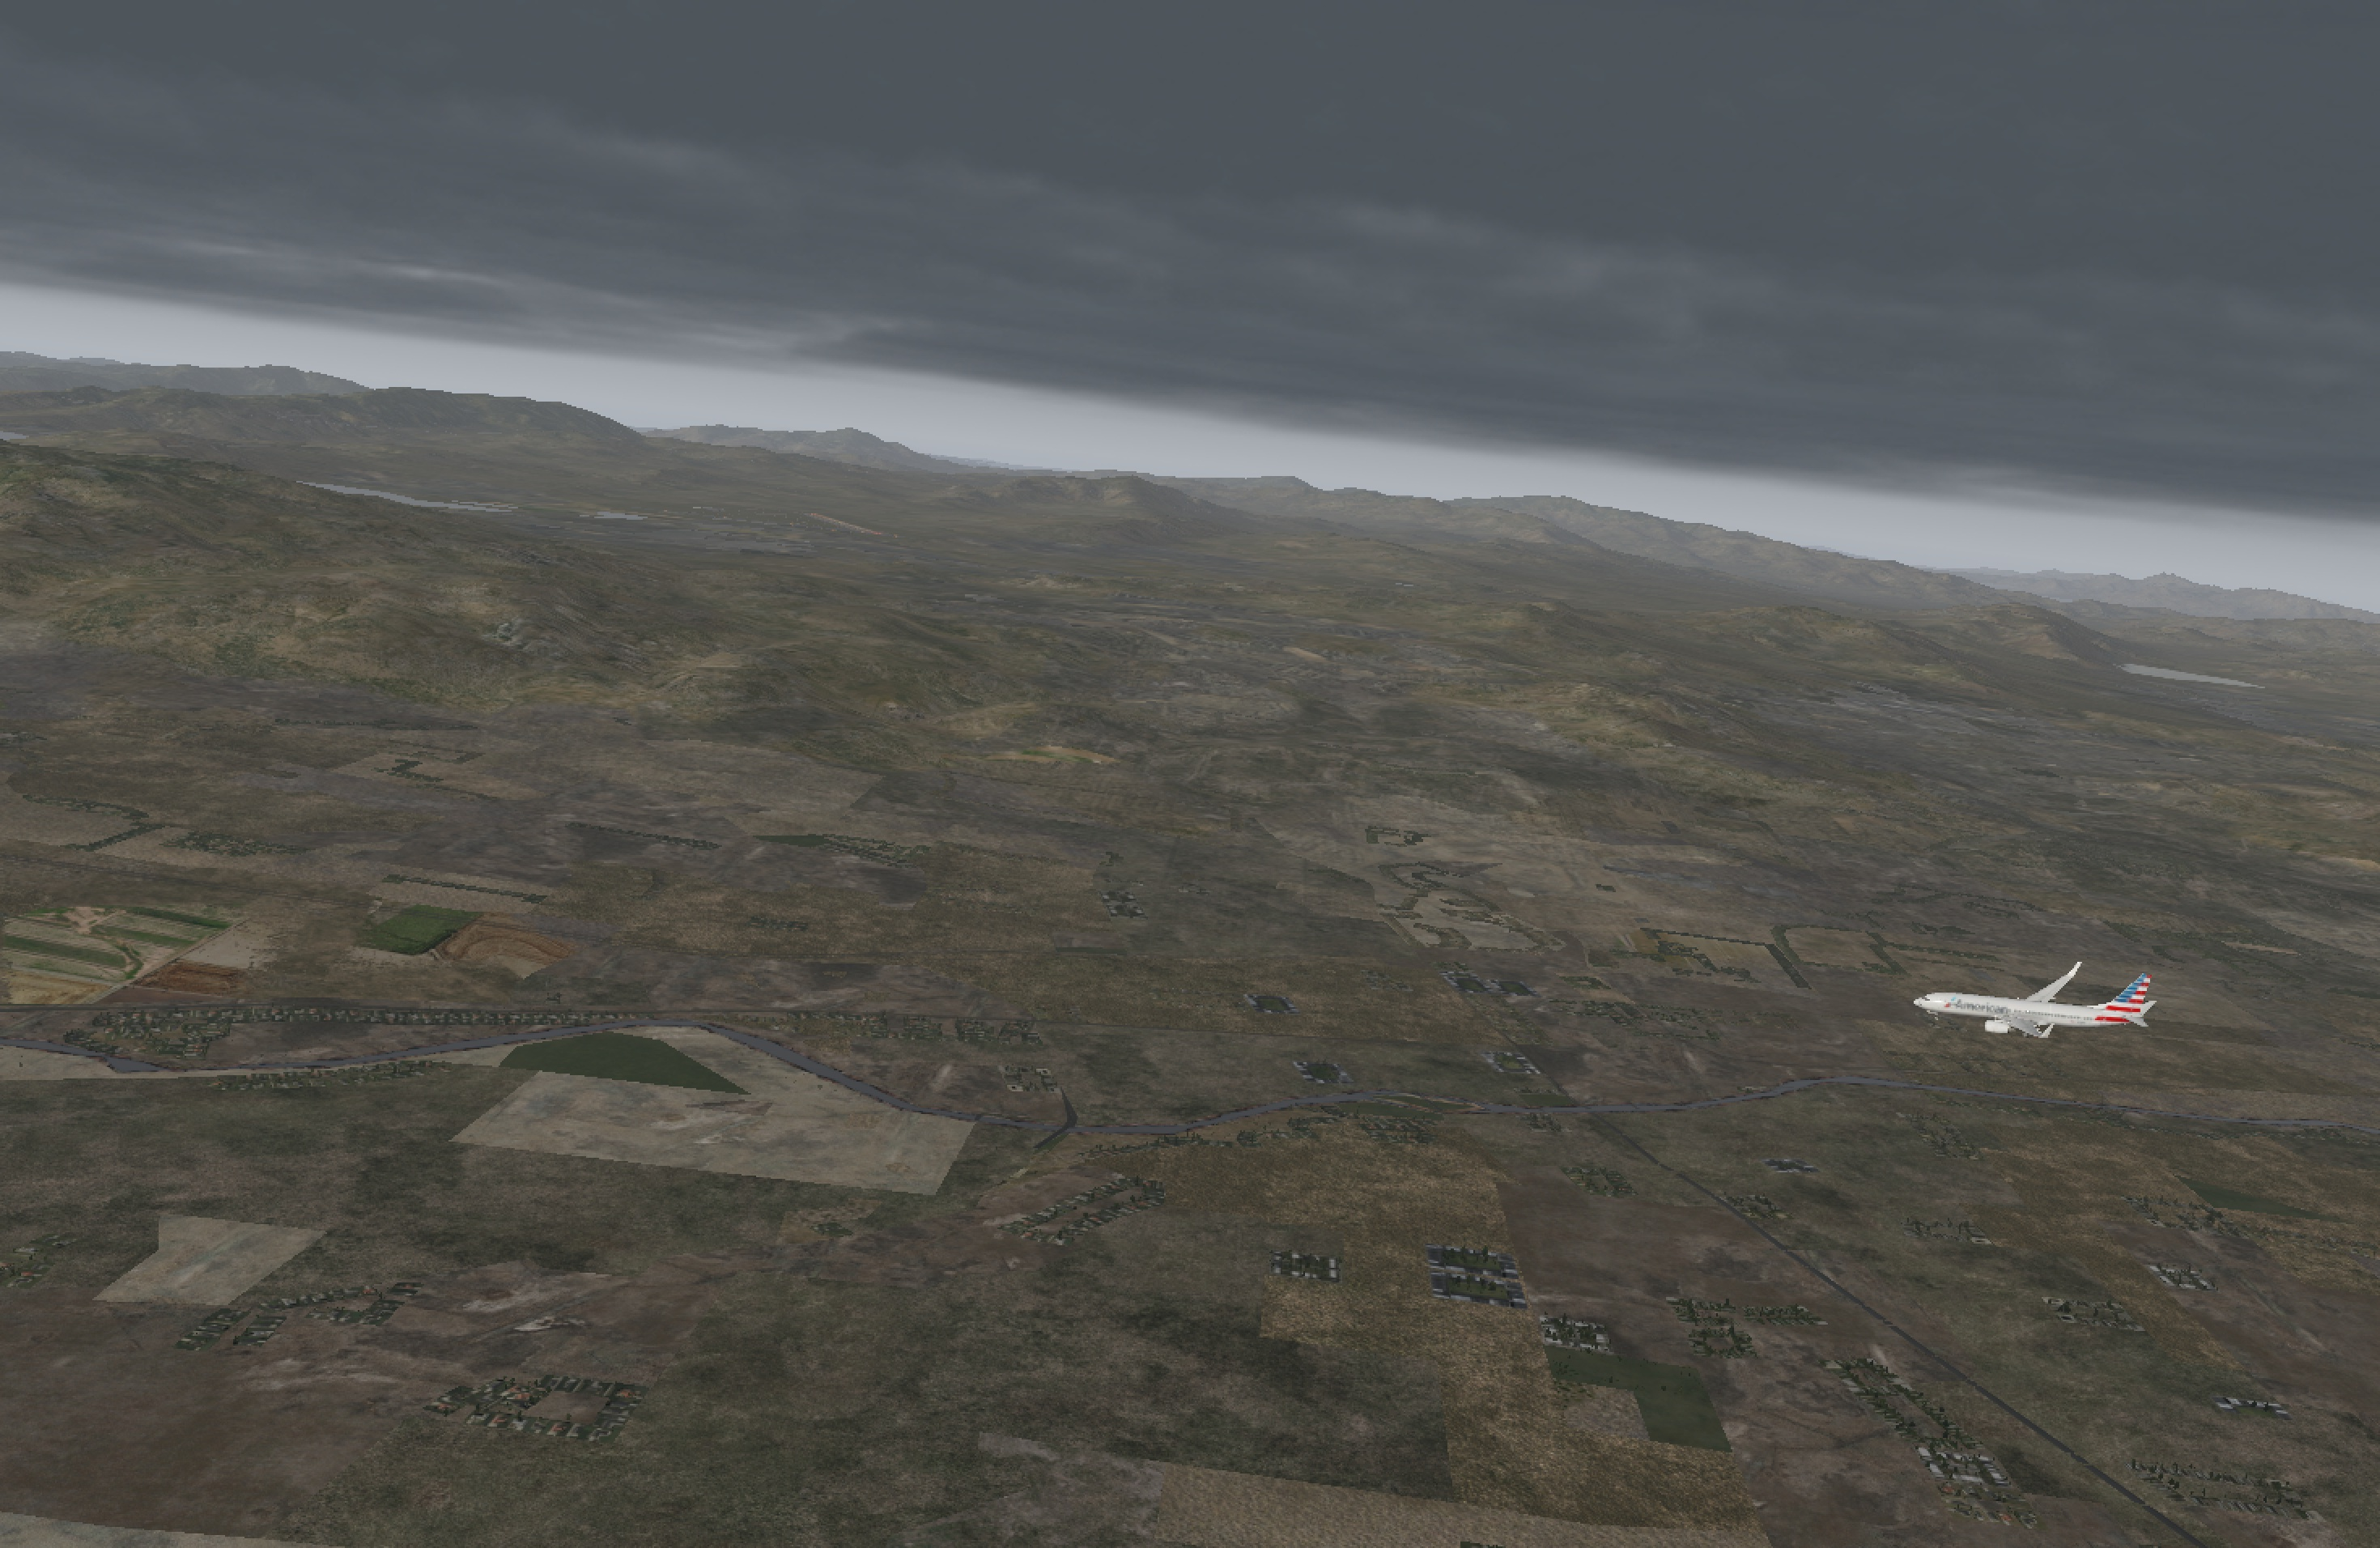aircraft: (1919, 975, 2123, 1053)
